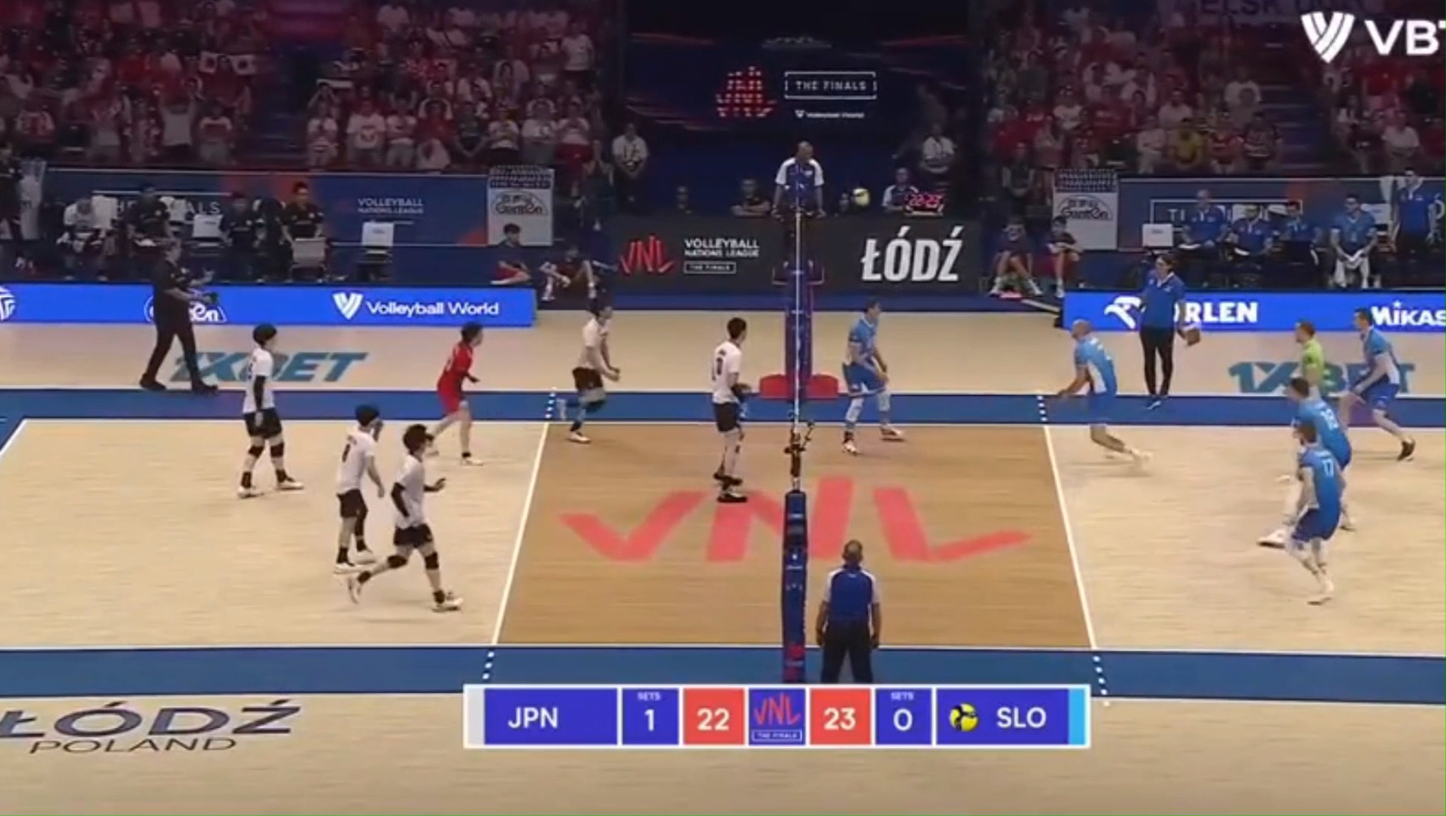ball: (852, 187, 870, 208)
player: (1056, 319, 1147, 463), (1284, 419, 1345, 604), (1341, 309, 1415, 459), (842, 301, 903, 454), (1288, 377, 1352, 468), (1295, 320, 1325, 395)
player 1: (348, 423, 461, 611), (237, 323, 303, 497), (333, 404, 386, 573), (569, 298, 620, 444), (431, 321, 483, 463), (711, 317, 750, 502)
referee: (140, 239, 217, 393), (815, 539, 881, 683), (1136, 255, 1188, 407), (773, 141, 824, 285)
